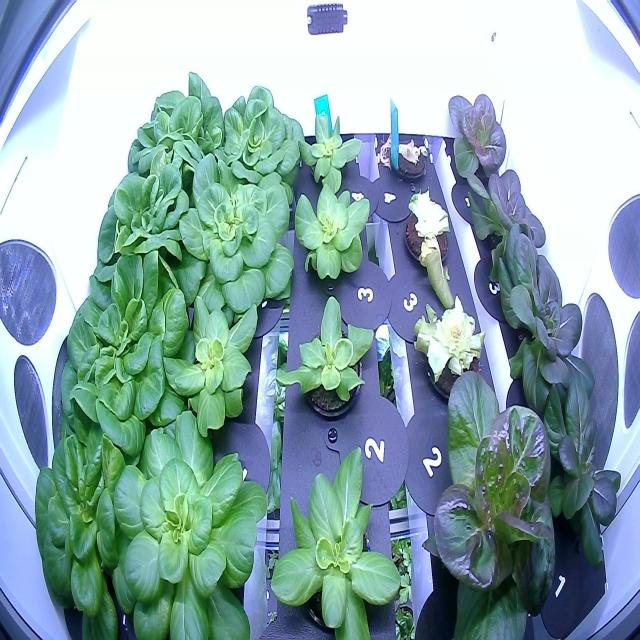Ready: (420, 354, 566, 640), (52, 236, 210, 474), (30, 399, 170, 639), (80, 148, 213, 324), (121, 62, 228, 194)
young: (100, 406, 275, 640), (262, 430, 411, 640), (172, 142, 299, 338), (520, 358, 628, 576), (484, 227, 598, 415), (267, 288, 393, 454), (153, 278, 277, 444), (457, 147, 553, 282), (203, 75, 309, 193), (286, 166, 382, 295), (438, 80, 518, 202), (288, 96, 370, 200)
